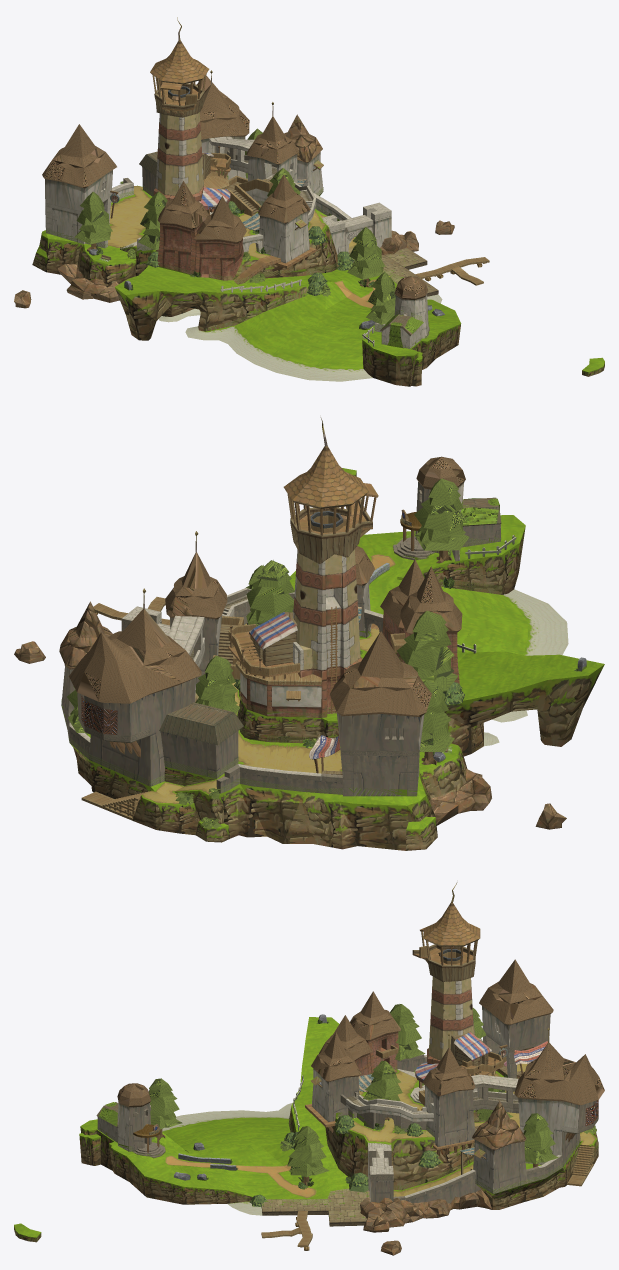
File: floating_fantasy_island_diorama.glb
The picture shows the model from 3 angles, top to bottom: view 1: azimuth 30°, elevation 25°; view 2: azimuth 150°, elevation 25°; view 3: azimuth 270°, elevation 25°; orthographic projection. The views are drawn at different scales.
Visible parts, largest first — view 1: Material3 (×13), Material2 (×6); view 2: Material3 (×13), Material2 (×6); view 3: Material3 (×14), Material2 (×5).
Part boxes in pixels (x1,y1,x2,y2): Material3 (×13): (14,17,604,386); Material2 (×6): (42,76,489,366); Material3 (×13): (14,417,604,850); Material2 (×6): (59,456,586,828); Material3 (×14): (14,882,598,1255); Material2 (×5): (97,946,604,1246).
Bounding box in the file's own units: 40552 × 23750 × 49314.
Materials: 31 (31 with a texture image).
